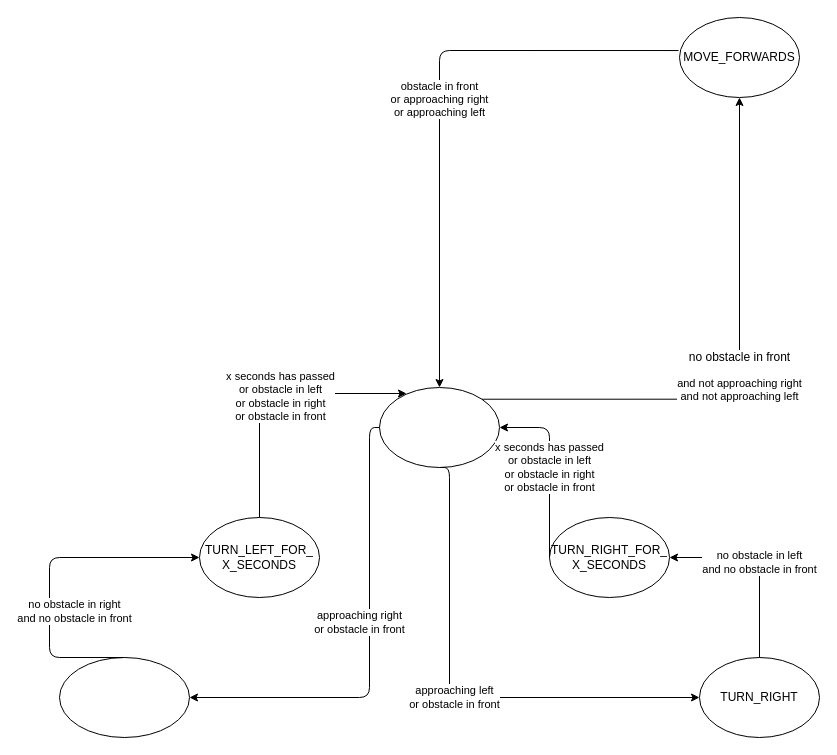
The diagram is 837 pixels wide and 755 high, and some of its shapes have lost their labels. The shapes that lost their labels are listed below. From the top down, each one's box as (x1, y1, x2, y2) in pixels, then its label:
(378, 386, 500, 468): WAIT
(58, 656, 190, 738): TURN_LEFT
